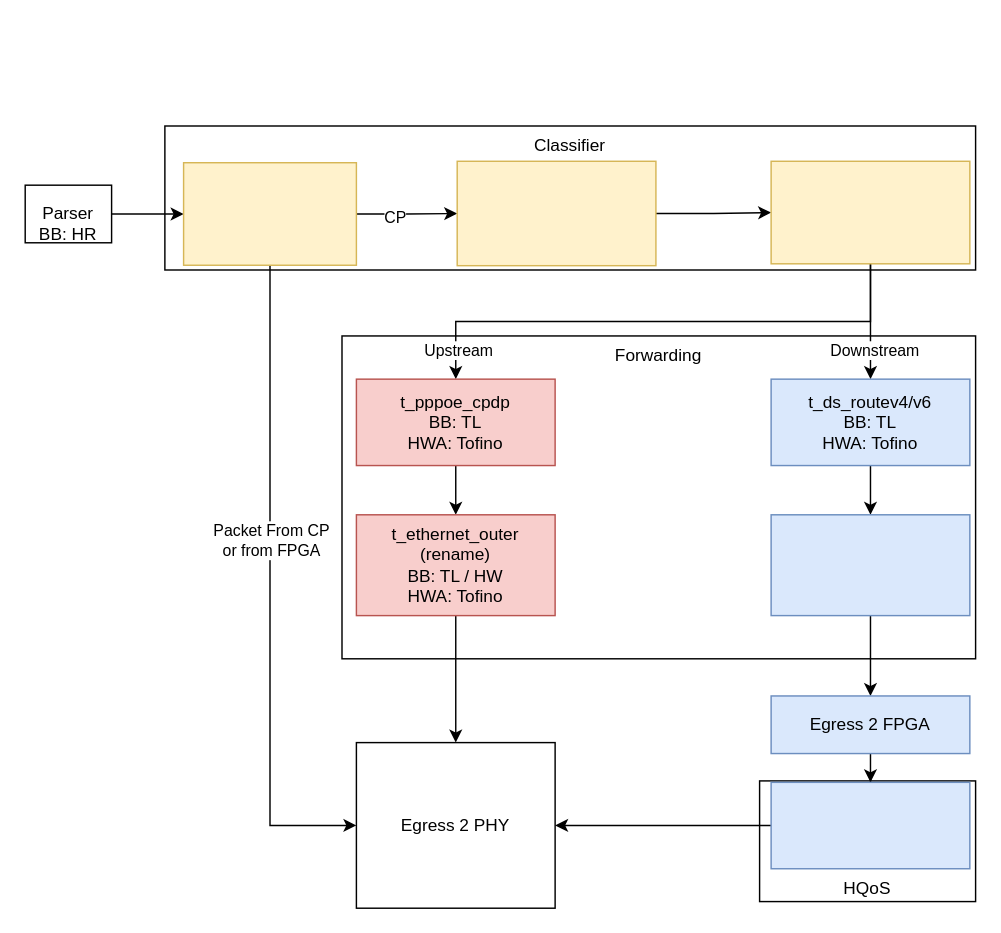
Some shapes in this 1001 by 933 pixel diagram are drawn without their labels. Each missing label, with the centre of its shape:
"t_cptap_outer_ethernet BB: TL HWA: Tofino" belongs at (556,213).
"t_ds_acl_qos_v4/v6 BB: TL / HW HWA: Tofino" belongs at (870,564).
"t_fromcp BB: TL HWA: Tofino" belongs at (269,213).
"t_usds BB: TL HWA: Tofino" belongs at (870,212).
"Traffic shaping BB: FA HWA: FPGA" belongs at (870,825).
